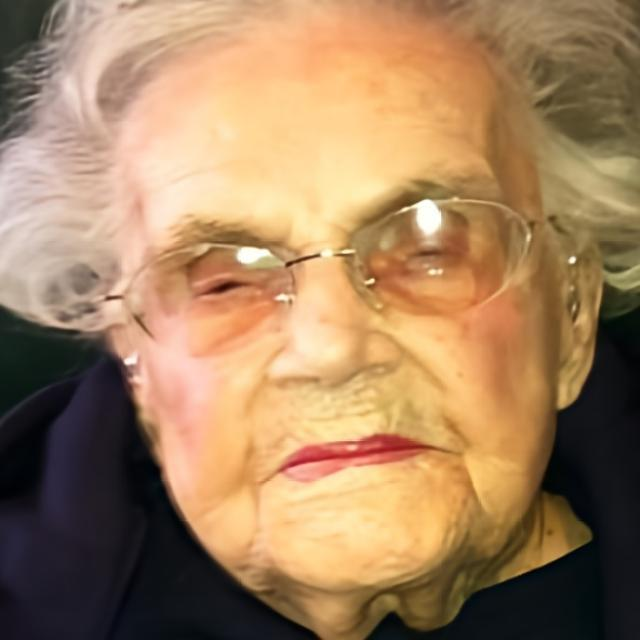anger: (139, 25, 542, 574)
